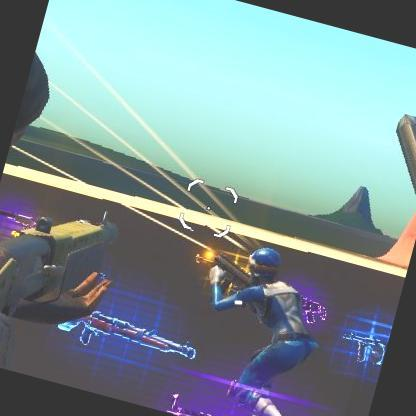person: (184, 234, 341, 403)
